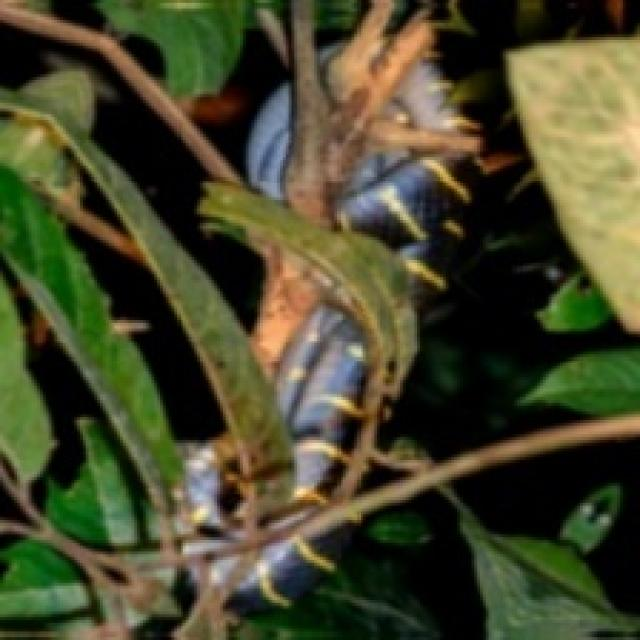mangrove cat snake: (200, 0, 480, 526), (231, 531, 423, 629)
